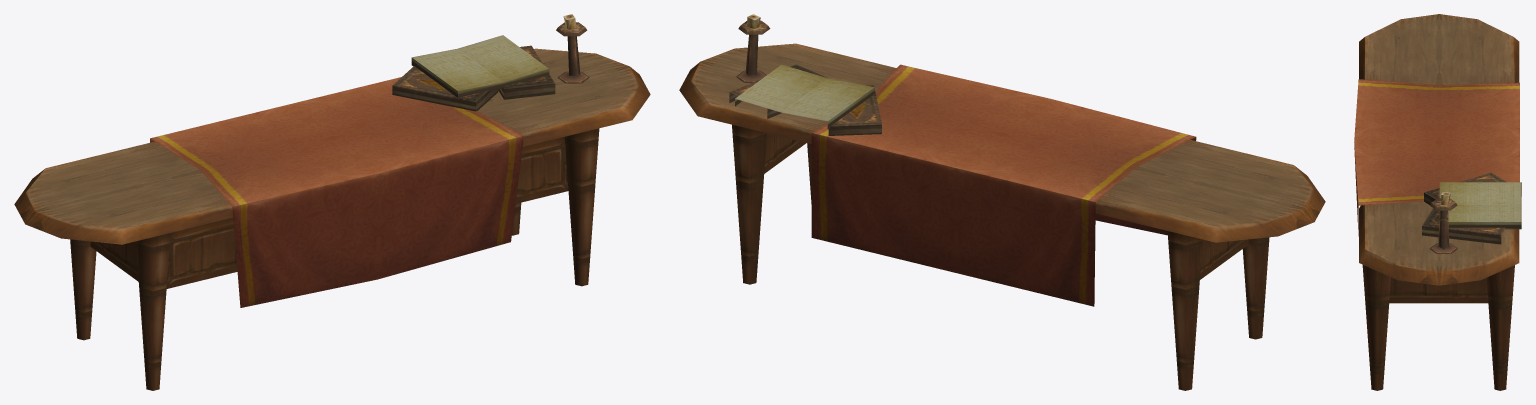
The model's file is common_city_dashuzhuo.FBX.
3 renders of one model, left to right at view 1: azimuth 30°, elevation 25°; view 2: azimuth 150°, elevation 25°; view 3: azimuth 270°, elevation 25°, orthographic. The views are drawn at different scales.
Parts seen in each view (by area): view 1: common_city_dashuzhuo; view 2: common_city_dashuzhuo; view 3: common_city_dashuzhuo.
Boxes of the visible parts, bbox=[...] form: common_city_dashuzhuo: bbox=[14, 14, 650, 390]; common_city_dashuzhuo: bbox=[679, 14, 1325, 390]; common_city_dashuzhuo: bbox=[1354, 14, 1521, 390].
Bounding box in the file's own units: 6.05 × 2.18 × 1.61.
